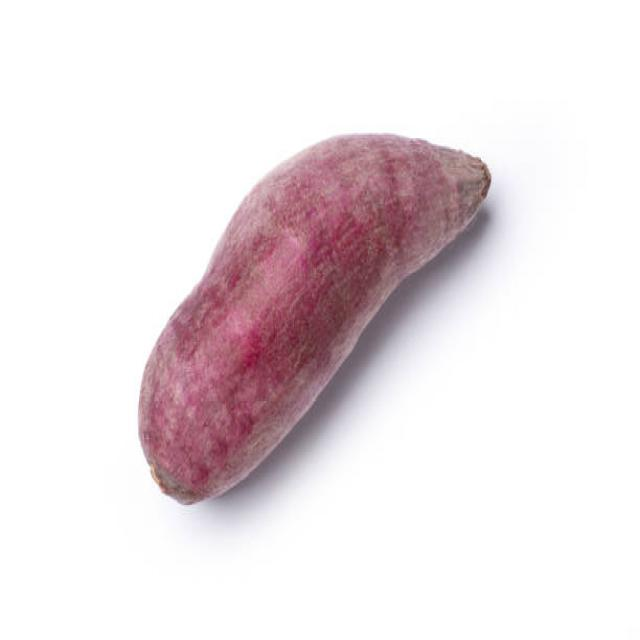Sweet Potato: (137, 126, 493, 510)
